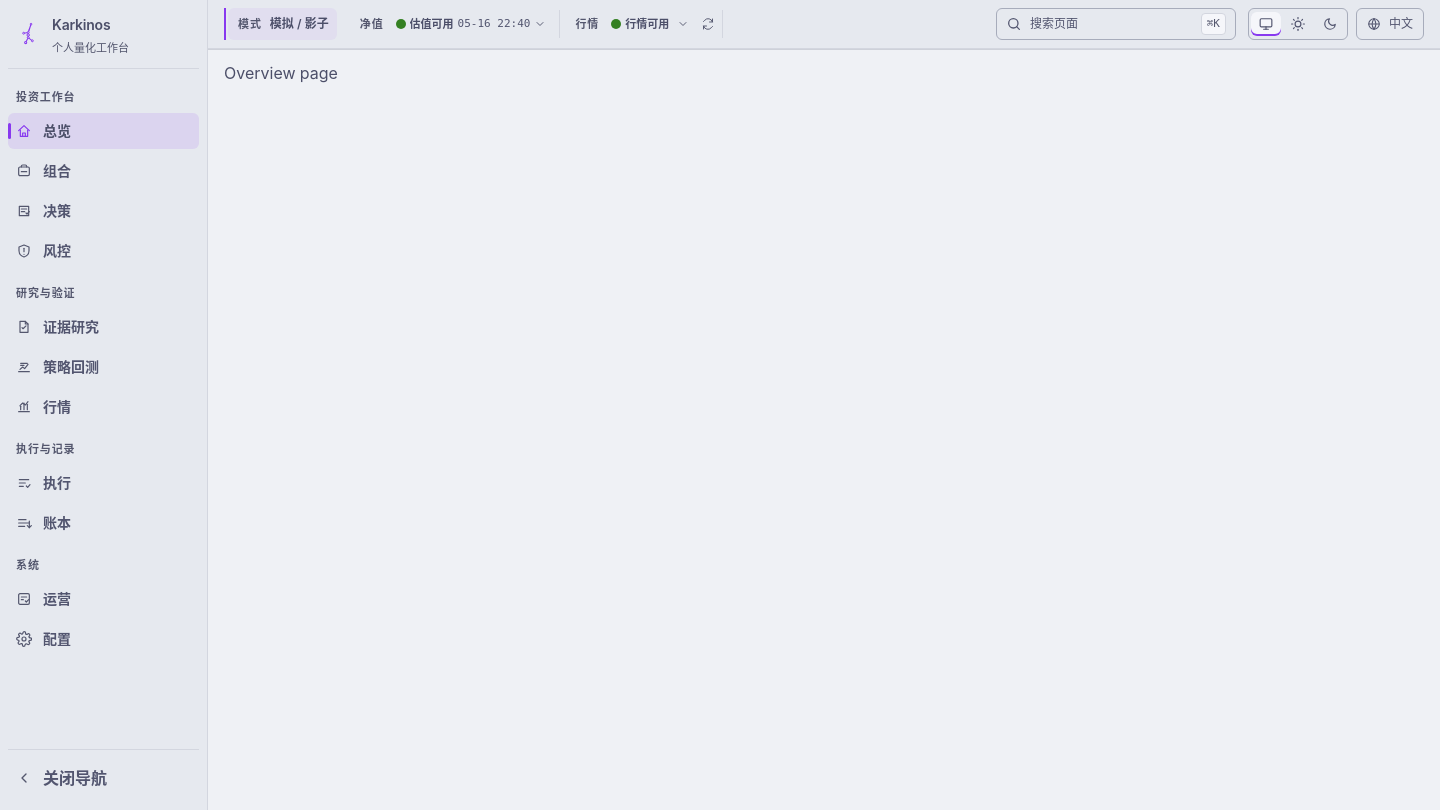
it: matches route labels across languages in zh
The width and height of the screenshot is (1440, 810).
Type keys "{Control>}k{/Control}"
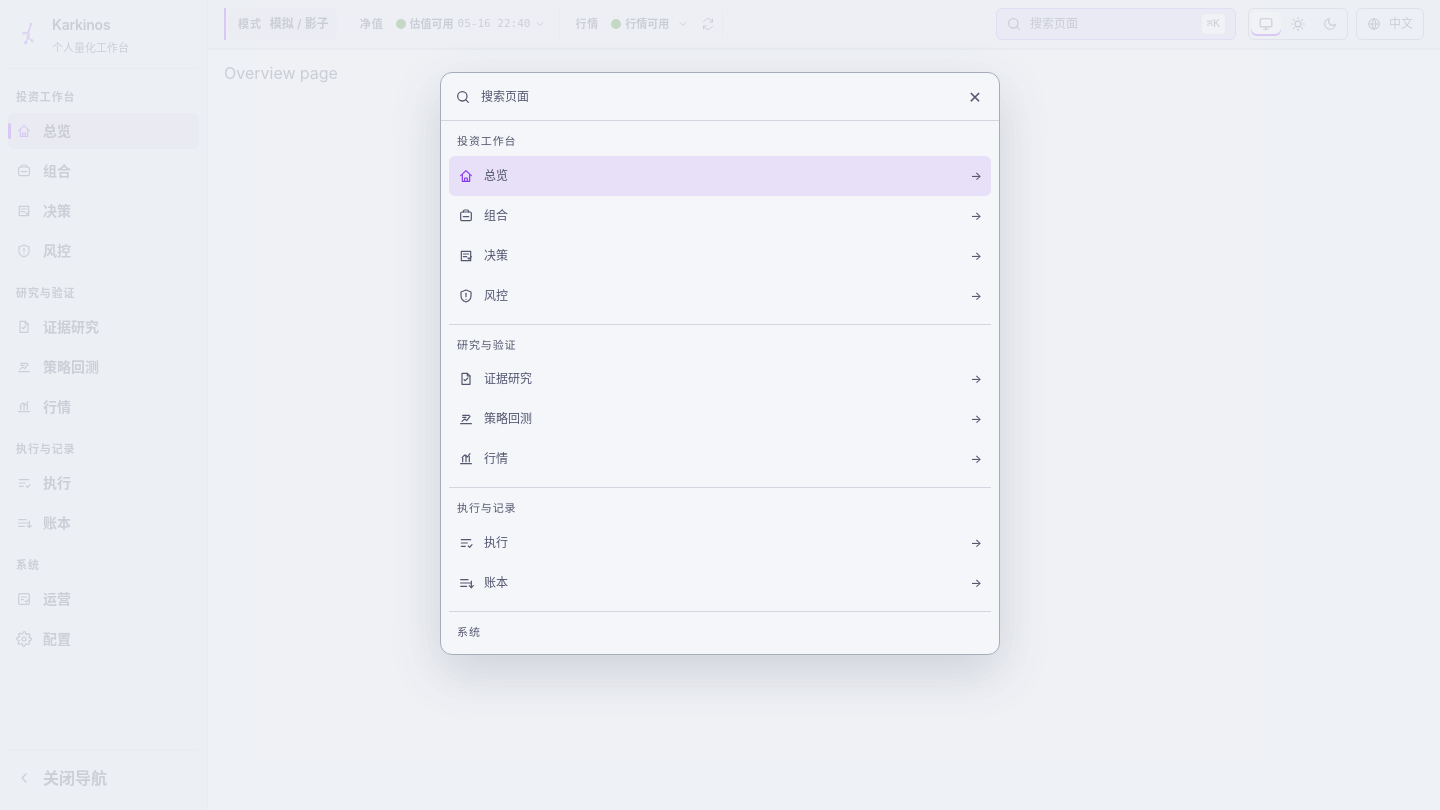
Type "risk" into the field at (716, 96), box [481,88,950,106]
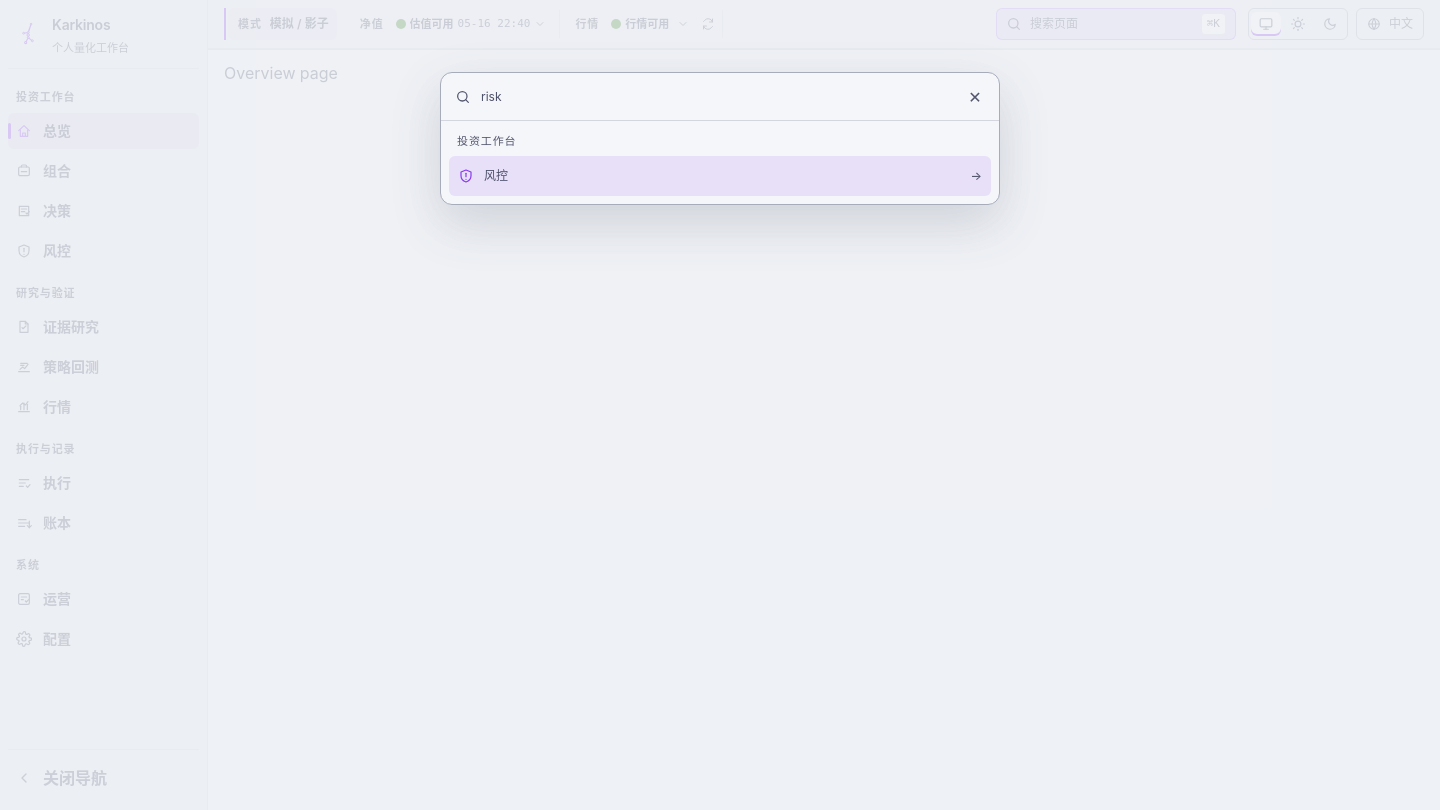
Replace the text in the field with "AAPL" at (716, 96), box [481,88,950,106]
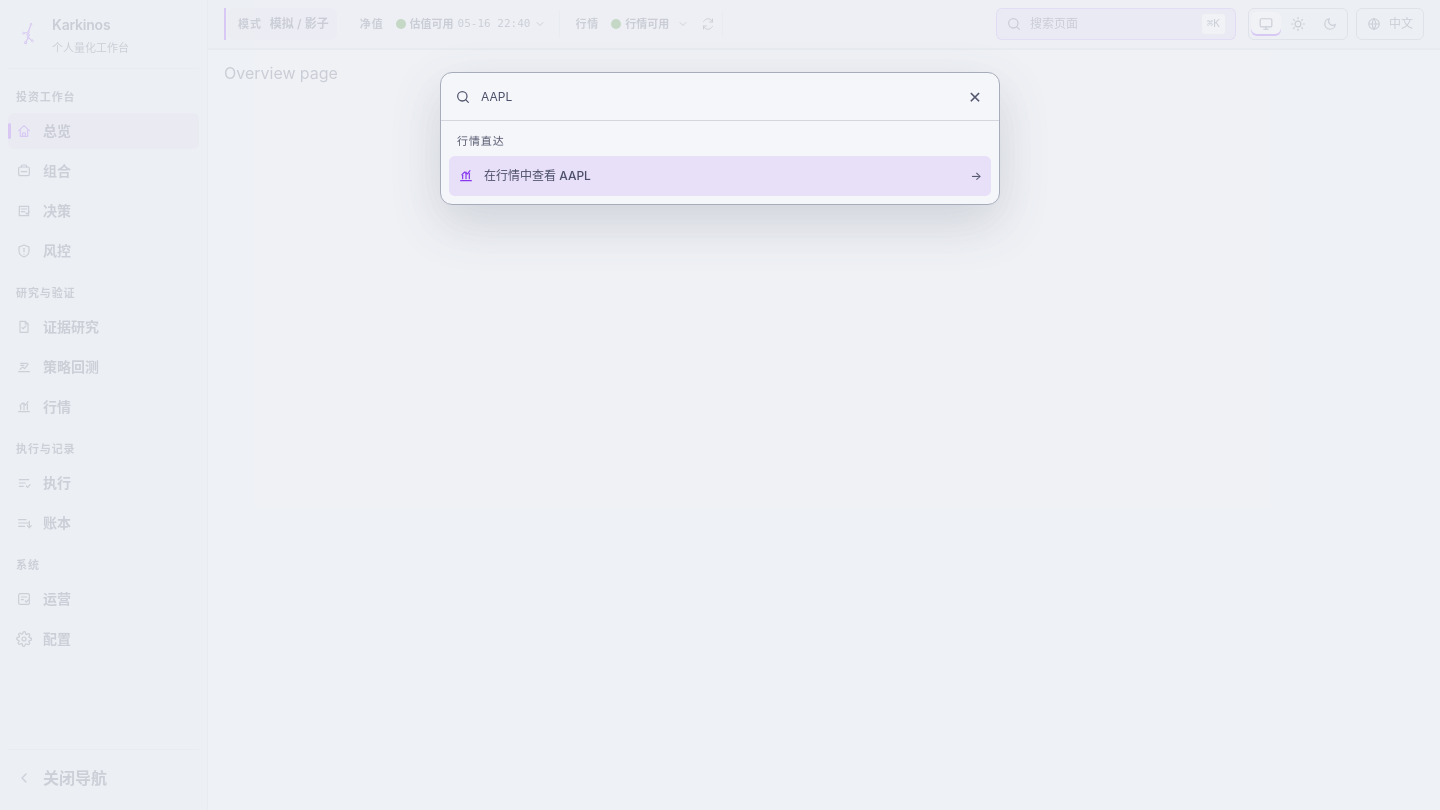
Expected: the link shows "AAPL", [449,156,991,196]
